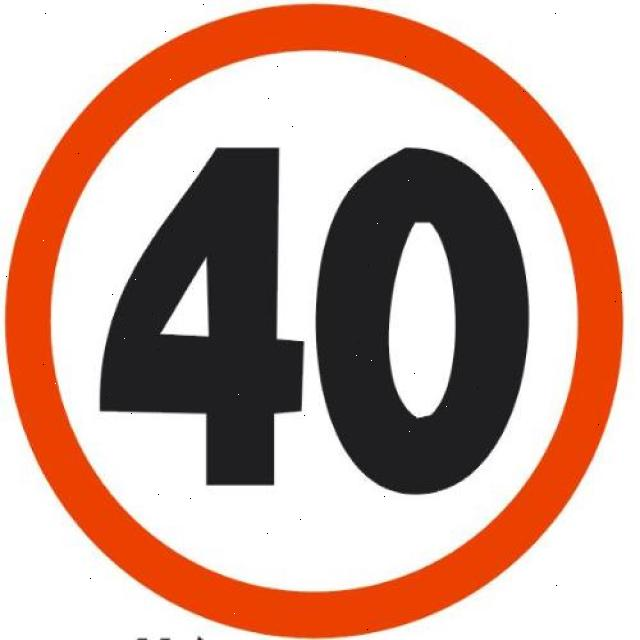speed limit 40: (1, 0, 627, 640)
